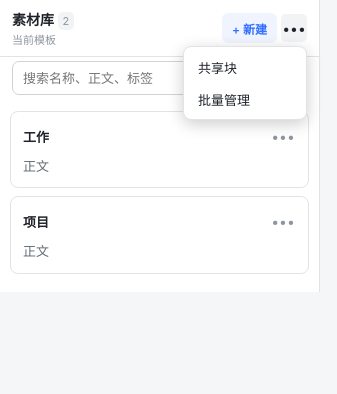
Scenario: 素材批量删除 › 卡片管理收进菜单；全选限定搜索结果，换筛选清空勾选
The width and height of the screenshot is (337, 394).
Expected: the number of elements with class "block-menu" is 2, top-left (270, 122), bottom-right (296, 150); top-left (270, 207), bottom-right (296, 235)
Click the button "批量管理": (245, 99) top-left (188, 83), bottom-right (302, 115)
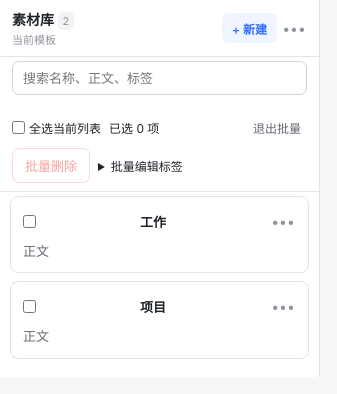
In the search field with placeholder "搜索名称、正文、标签": (160, 78) top-left (12, 61), bottom-right (307, 95), type "工作"
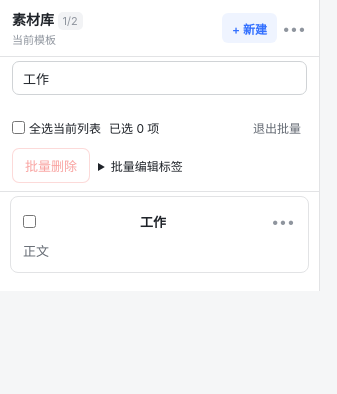
Click the checkbox named "全选当前素材列表": (18, 128) top-left (12, 121), bottom-right (25, 134)
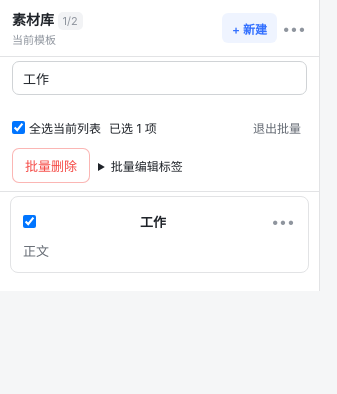
Expected: the text "已选 1 项" is shown, top-left (109, 119), bottom-right (157, 136)
Clear the search field: (160, 78) top-left (12, 61), bottom-right (307, 95)
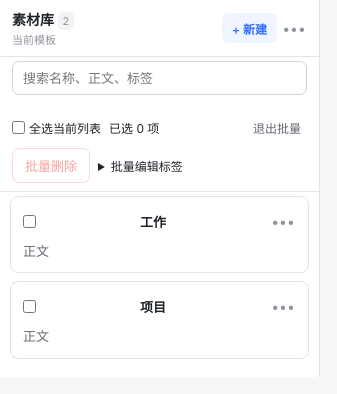
Expected: the text "已选 0 项" is shown, top-left (109, 119), bottom-right (159, 136)
Expected: the button "批量删除" is disabled, top-left (12, 148), bottom-right (90, 183)
